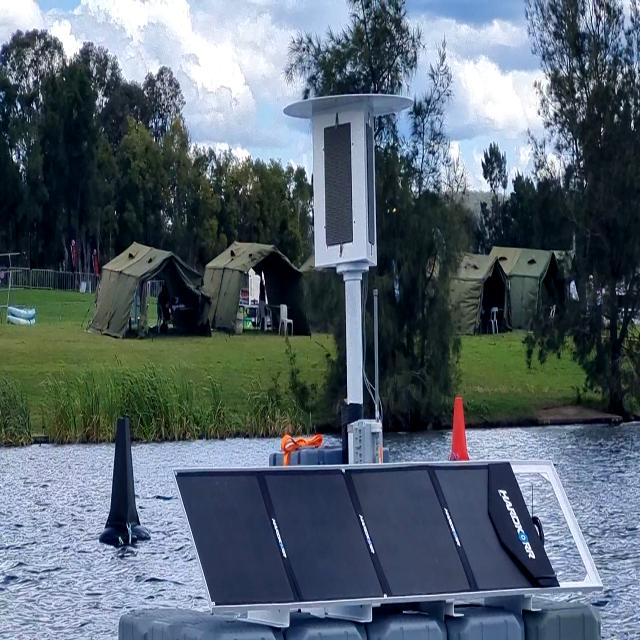led: (318, 115, 362, 255)
